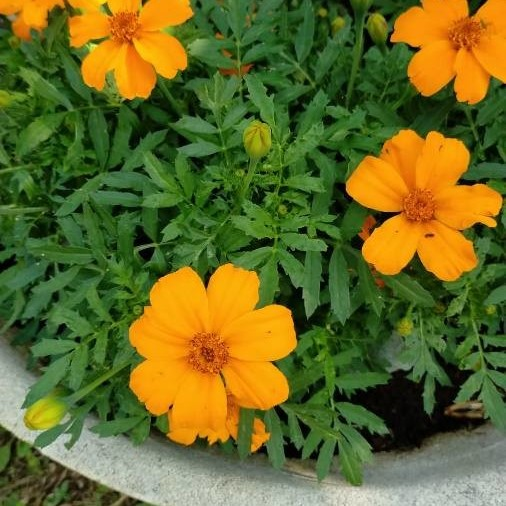obstacle: (56, 25, 462, 433)
